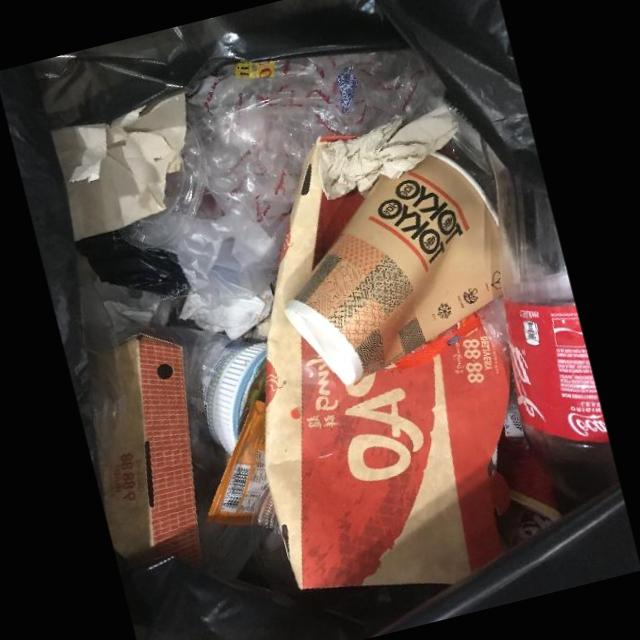carton: (265, 135, 510, 589), (88, 332, 203, 573)
chai_nhua_pet: (479, 134, 619, 509)
giay: (283, 151, 502, 384), (50, 86, 192, 241), (318, 103, 458, 199)
tui_ni_long: (185, 49, 447, 236), (152, 188, 292, 305)
